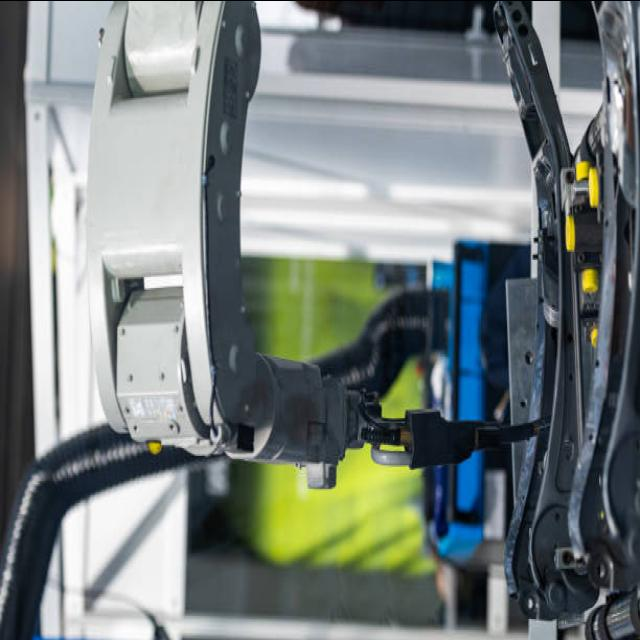Robotic-arm: (74, 0, 415, 486)
